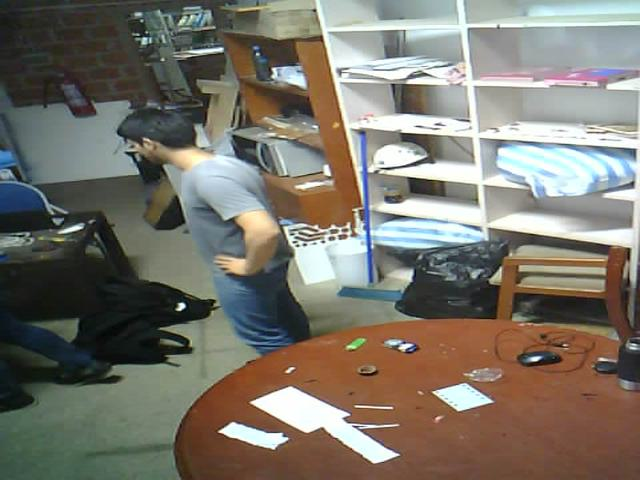person: (101, 84, 335, 377)
